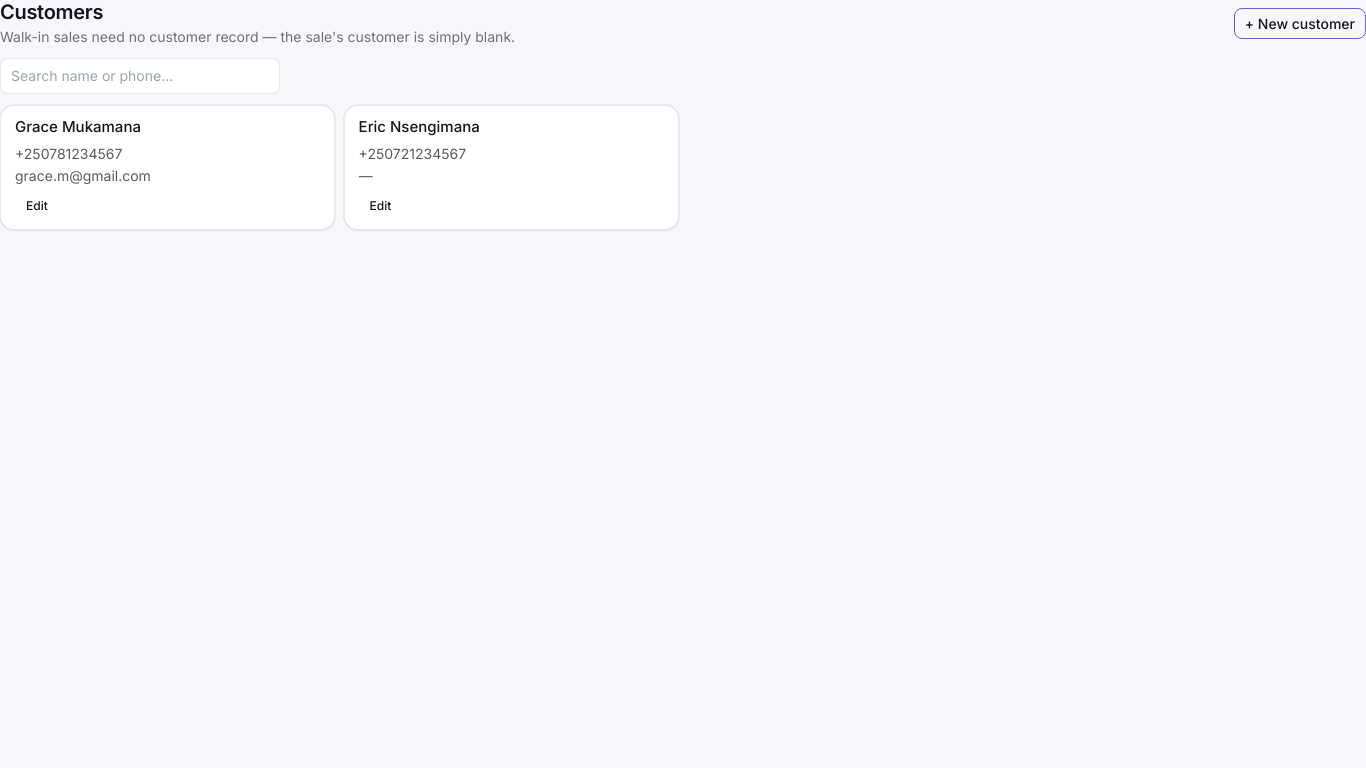
Test: CustomersPageClient › opens the edit dialog pre-filled when Edit is clicked
Expected: the link "Grace Mukamana" is shown, [15,117,141,136]
Click the button "Edit" below "Grace Mukamana": point(37, 206) [15,191,59,220]
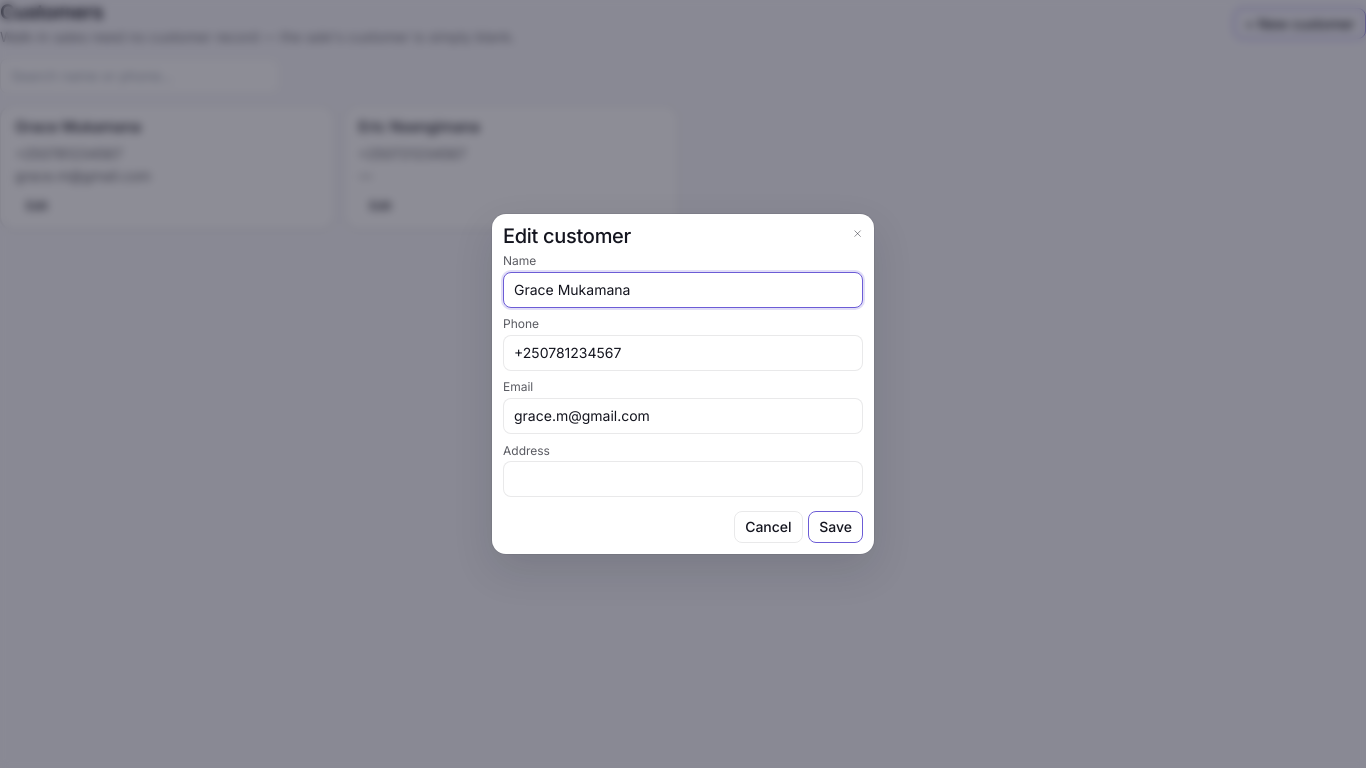
Expected: the field labelled "Name" holds "Grace Mukamana", [503,272,863,308]
